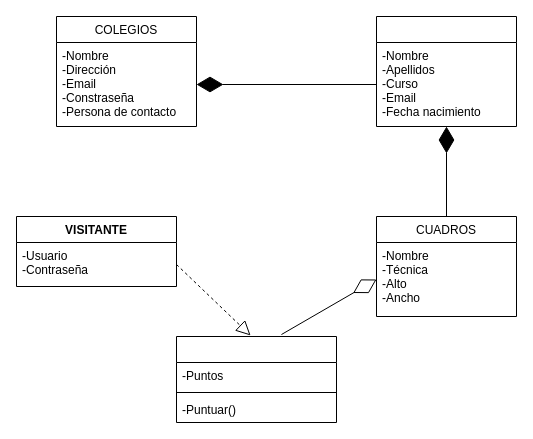
Some shapes in this 533 by 439 pixel diagram are drawn without their labels. Each missing label, with the box of its shape:
ALUMNOS: (376, 16, 516, 126)
CONCURSO: (176, 336, 336, 422)
